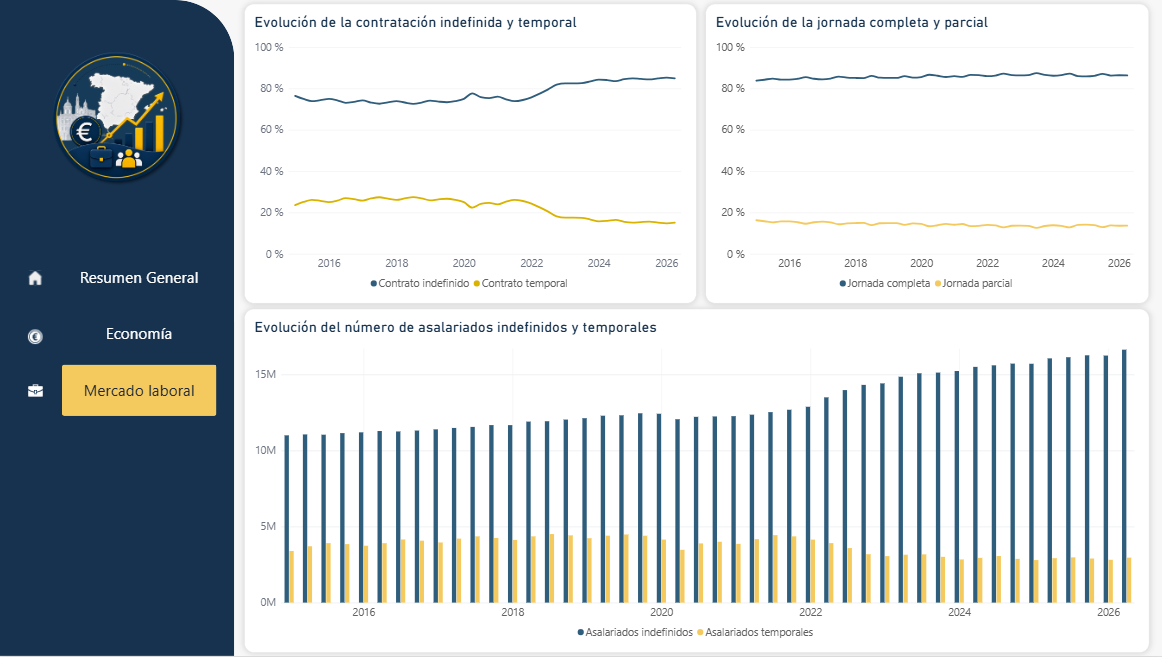

This screenshot's page, from the dashboard's own definition file:
{"tool":"powerbi","page":{"name":"Mercado laboral","canvas":[1920,1080],"ordinal":2},"visuals":[{"type":"group","id":"g1","title":"Barra izquierda","box":[0,0,389.2,1080.4],"z":0},{"type":"lineChart","title":"Evolución de la contratación indefinida y temporal","fields":{"Category":["DimPeriod.date"],"Y":["Sum(employment_contract_gold.indefinite_pct)","Sum(employment_contract_gold.temporary_pct)"]},"box":[405.5,6.2,745.1,494],"z":1000},{"type":"lineChart","title":"Evolución de la jornada completa y parcial","fields":{"Category":["DimPeriod.date"],"Y":["Sum(work_schedule_gold.full_time_pct)","Sum(work_schedule_gold.part_time_pct)"]},"box":[1165,6.2,730.7,494],"z":2000},{"type":"clusteredColumnChart","title":"Evolución del número de asalariados indefinidos y temporales","fields":{"Category":["DimPeriod.date"],"Y":["Sum(employment_contract_gold.indefinite)","Sum(employment_contract_gold.temporary)"]},"box":[405.5,508.4,1490.2,566],"z":3000},{"type":"shape","box":[0,0,389.2,1080.4],"z":8000,"group":"g1"},{"type":"pageNavigator","box":[105.9,414.3,255.2,272.2],"z":9000,"group":"g1"},{"type":"actionButton","box":[17.1,418.7,89.4,80.5],"z":10000,"group":"g1"},{"type":"actionButton","box":[17.1,513.8,89.4,80.5],"z":11000,"group":"g1"},{"type":"actionButton","box":[19.5,604.1,87,80.5],"z":12000,"group":"g1"},{"type":"shape","box":[79.8,78.7,228.7,229.2],"z":12500,"group":"g1"},{"type":"image","box":[22.3,81.9,344.5,223.3],"z":13000,"group":"g1"}]}

Visuals, with their boxes in screenshot pixels (x1, y1, x2, y2), scaled from the page's 1920x1080 canvas onto the 1162x657 screenshot:
"Barra izquierda" group: bbox(0, 0, 236, 656)
"Evolución de la contratación indefinida y temporal" lineChart: bbox(245, 4, 696, 304)
"Evolución de la jornada completa y parcial" lineChart: bbox(705, 4, 1147, 304)
"Evolución del número de asalariados indefinidos y temporales" clusteredColumnChart: bbox(245, 309, 1147, 654)
shape: bbox(0, 0, 236, 656)
pageNavigator: bbox(64, 252, 219, 418)
actionButton: bbox(10, 255, 64, 304)
actionButton: bbox(10, 313, 64, 362)
actionButton: bbox(12, 367, 64, 416)
shape: bbox(48, 48, 187, 187)
image: bbox(13, 50, 222, 186)
